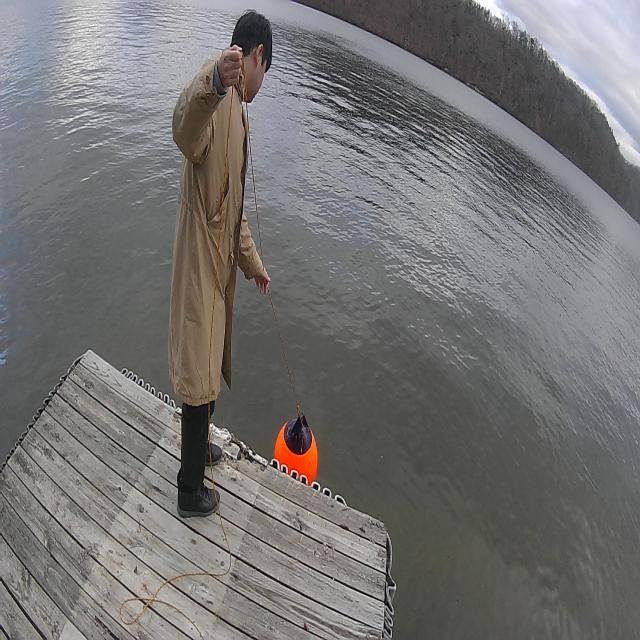Buoy: (270, 410, 322, 493)
